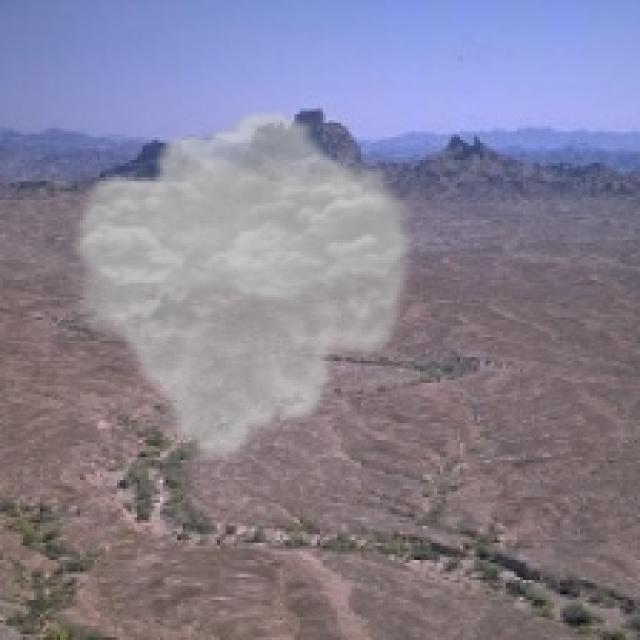smoke: (63, 106, 423, 466)
